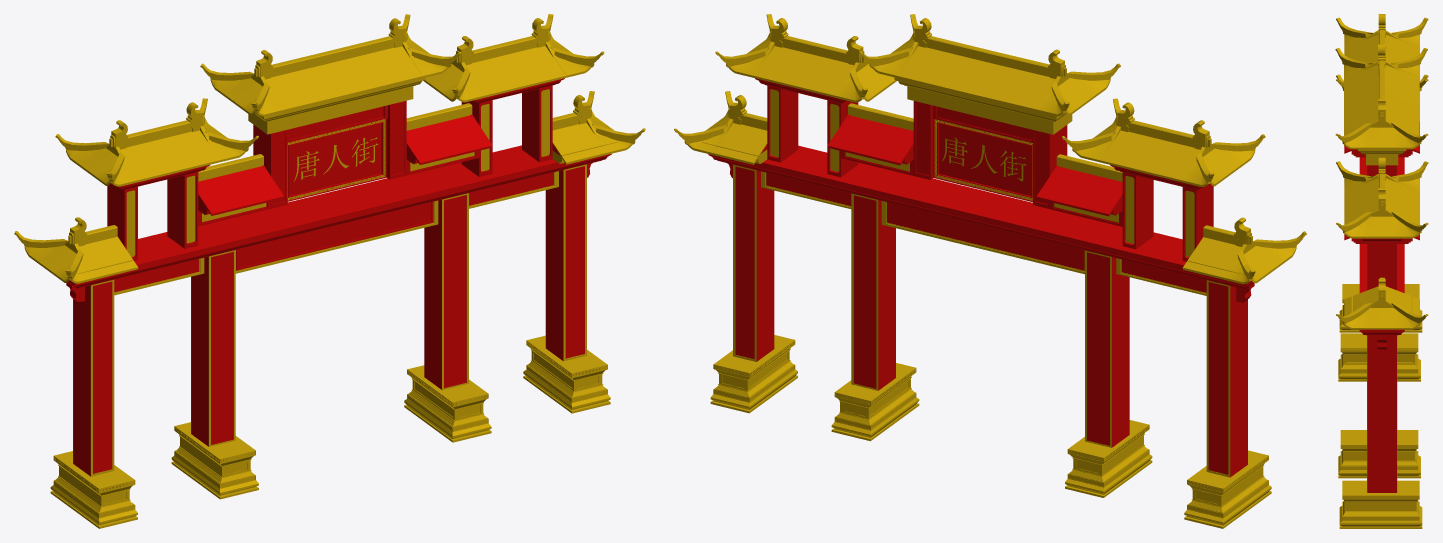
The model's file is trj.fbx.
3 renders of one model, left to right at view 1: azimuth 30°, elevation 25°; view 2: azimuth 150°, elevation 25°; view 3: azimuth 270°, elevation 25°, orthographic. The views are drawn at different scales.
Parts seen in each view (by area): view 1: pailou; view 2: pailou; view 3: pailou.
Part boxes in pixels (x1=…): pailou: x1=14, y1=14, x2=645, y2=528; pailou: x1=674, y1=14, x2=1306, y2=528; pailou: x1=1335, y1=14, x2=1428, y2=528.
Bounding box in the file's own units: 17292 × 11747 × 2820.
